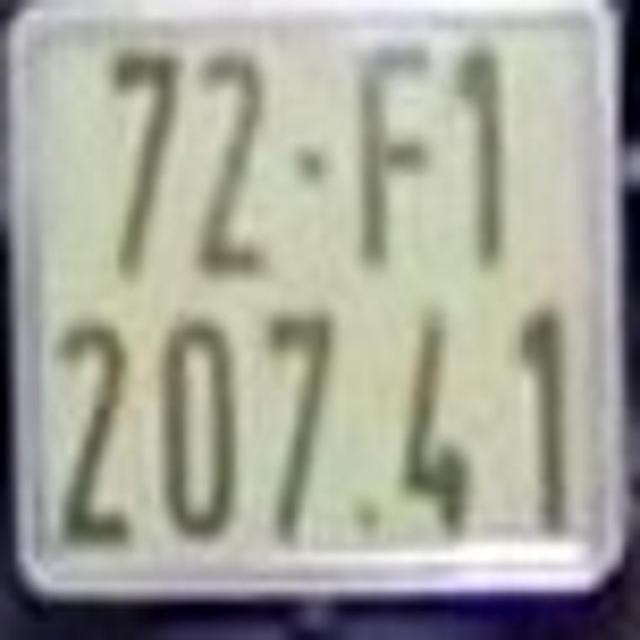0: (158, 315, 240, 543)
1: (509, 297, 582, 537), (444, 34, 518, 269)
2: (48, 312, 130, 556), (192, 45, 263, 278)
4: (396, 304, 479, 540)
7: (109, 44, 182, 272), (260, 305, 331, 538)
F: (356, 39, 434, 260)
